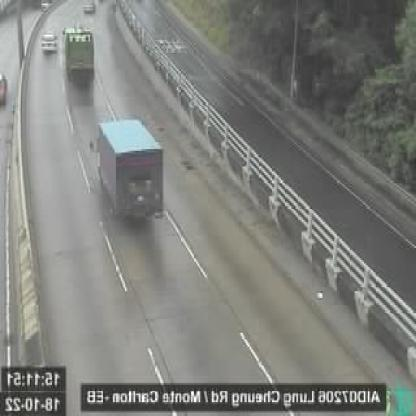Car: (39, 31, 59, 57), (80, 0, 97, 15)
Truck: (93, 117, 167, 227), (64, 24, 95, 86)
